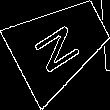N_NE: (32, 14, 89, 74)
